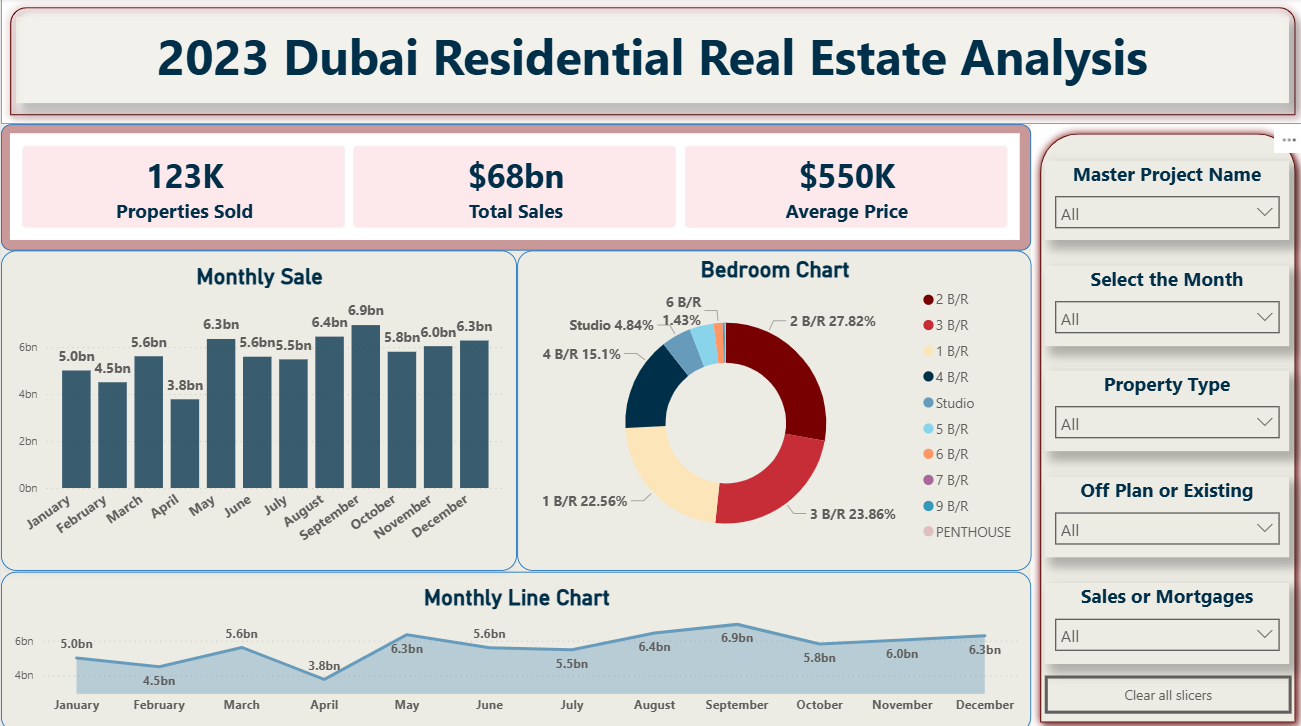

This screenshot's page, from the dashboard's own definition file:
{"tool":"powerbi","page":{"name":"Page 1","canvas":[1280,720],"ordinal":0},"visuals":[{"type":"shape","box":[1011,123.9,268.7,596.3],"z":0},{"type":"donutChart","title":"Bedroom Chart","fields":{"Category":["Dubai_Residential.rooms_en"],"Y":["Sum(Dubai_Residential.Sales_in_USD)"]},"box":[506.4,248.2,505,314.5],"z":1000},{"type":"clusteredColumnChart","title":"Monthly Sale","fields":{"Y":["Sum(Dubai_Residential.Sales_in_USD)"],"Category":["Dubai_Residential.Month Name"]},"box":[0,248.2,506.4,314.5],"z":2000},{"type":"shape","box":[0,0,1279.7,124.1],"z":3000},{"type":"cardVisual","fields":{"Data":["Dubai_Residential.Residential Properties Sold","Dubai_Residential.Total Sales","Dubai_Residential.Median Price"]},"box":[0,123.9,1011,123.9],"z":4000},{"type":"textbox","box":[14.4,18.8,1249.4,85.1],"z":5000},{"type":"slicer","title":"Master Project Name","fields":{"Values":["Dubai_Residential.master_project_en"]},"box":[1024.6,159.9,240,77.9],"z":6000},{"type":"slicer","title":"Select the Month","fields":{"Values":["Dubai_Residential.Month Name"]},"box":[1024.6,262.3,240,79.4],"z":7000},{"type":"slicer","title":"Off Plan or Existing","fields":{"Values":["Dubai_Residential.reg_type_en"]},"box":[1024.6,470.1,240,79.4],"z":8000},{"type":"slicer","title":"Property Type","fields":{"Values":["Dubai_Residential.property_sub_type_en"]},"box":[1024.6,366.2,240,79.4],"z":9000},{"type":"slicer","title":"Sales or Mortgages","fields":{"Values":["Dubai_Residential.trans_group_en"]},"box":[1024.6,573.9,240,79.4],"z":10000},{"type":"actionButton","box":[1024.4,665.1,242.4,37.5],"z":11000},{"type":"lineChart","title":"Monthly Line Chart","fields":{"Category":["Dubai_Residential.Month Name"],"Y":["Sum(Dubai_Residential.Sales_in_USD)"]},"box":[0,562.7,1011.4,157.3],"z":12000}]}

Visuals, with their boxes in screenshot pixels (x1, y1, x2, y2), scaled from the page's 1280x720 canvas onto the 1301x726 screenshot:
shape: 1028 125 1300 725
"Bedroom Chart" donutChart: 515 250 1028 567
"Monthly Sale" clusteredColumnChart: 0 250 515 567
shape: 0 0 1300 125
cardVisual - Dubai_Residential.Residential Properties Sold x Dubai_Residential.Total Sales: 0 125 1028 250
textbox: 15 19 1285 105
"Master Project Name" slicer: 1041 161 1285 240
"Select the Month" slicer: 1041 264 1285 345
"Off Plan or Existing" slicer: 1041 474 1285 554
"Property Type" slicer: 1041 369 1285 449
"Sales or Mortgages" slicer: 1041 579 1285 659
actionButton: 1041 671 1288 708
"Monthly Line Chart" lineChart: 0 567 1028 725
